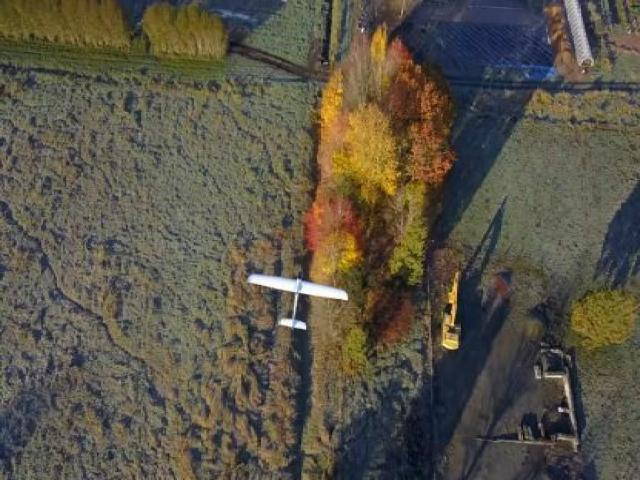uav: (240, 258, 357, 339)
